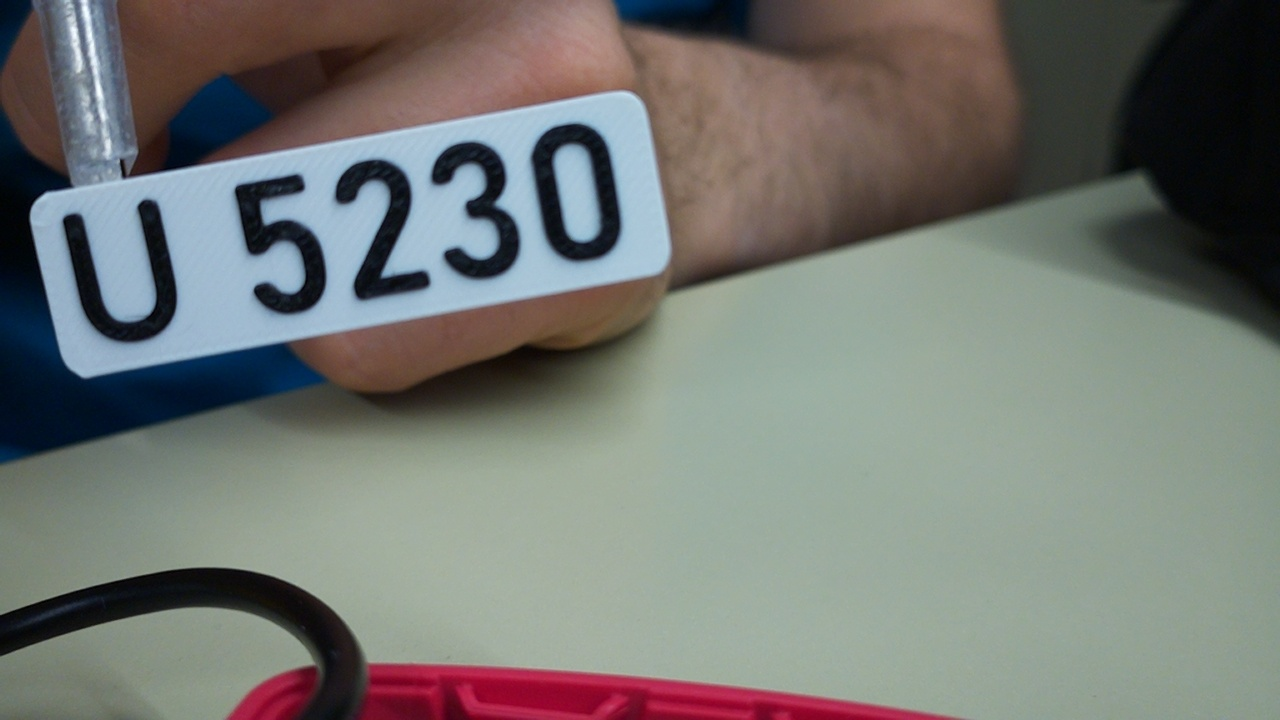license_plate: (25, 86, 675, 382)
